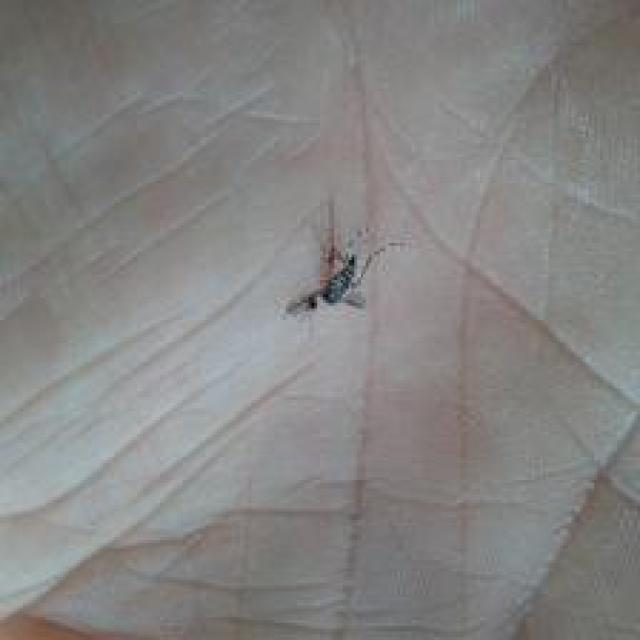Aedes albopictus: (284, 195, 407, 318)
